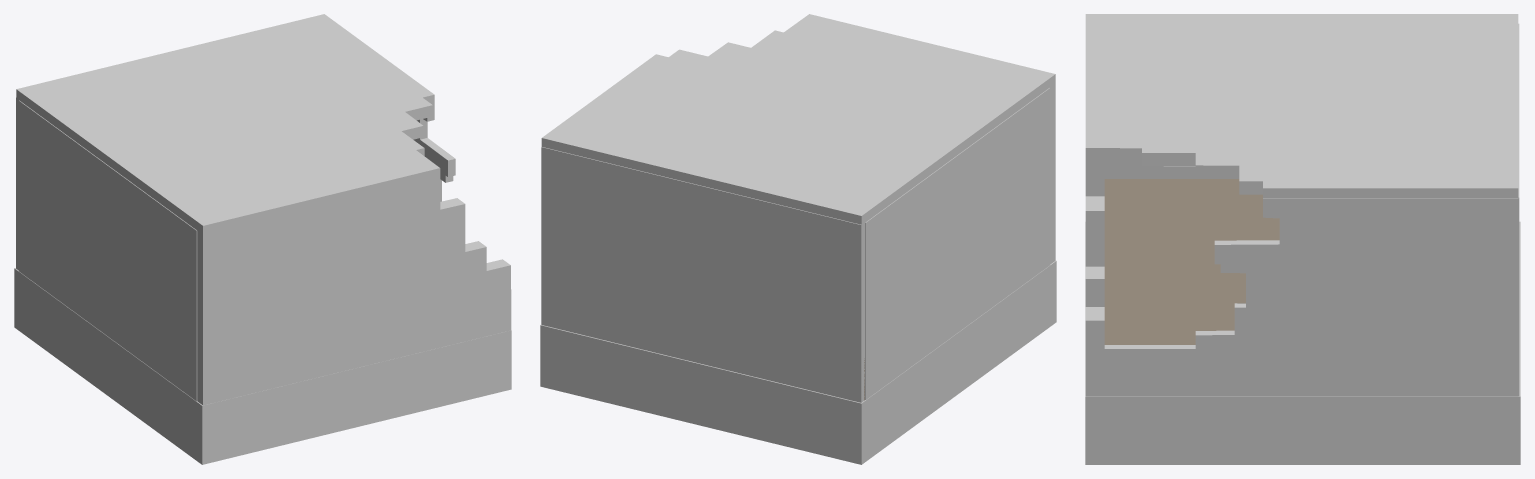
The model's file is stage5.fbx.
The picture shows the model from 3 angles, left to right: view 1: azimuth 30°, elevation 25°; view 2: azimuth 150°, elevation 25°; view 3: azimuth 270°, elevation 25°; orthographic projection. The views are drawn at different scales.
Visible parts, largest first — view 1: pCube4, pCube3, pasted__pCube2 (×2), pCube5, pCube2; view 2: pCube4, pCube2, pasted__pCube2, pCube5, pCube3; view 3: pCube4, pasted__pCube2 (×2), pCube5, pCube1, pCube3, pCube2.
Boxes of the visible parts, x1=… form: pCube4: x1=16, y1=14, x2=440, y2=237; pCube3: x1=197, y1=179, x2=510, y2=405; pasted__pCube2 (×2): x1=19, y1=100, x2=511, y2=401; pCube5: x1=14, y1=268, x2=511, y2=464; pCube2: x1=16, y1=97, x2=18, y2=270; pCube4: x1=541, y1=14, x2=1055, y2=225; pCube2: x1=541, y1=147, x2=864, y2=402; pasted__pCube2: x1=865, y1=88, x2=1050, y2=399; pCube5: x1=540, y1=260, x2=1056, y2=464; pCube3: x1=1050, y1=84, x2=1055, y2=263; pCube4: x1=1085, y1=14, x2=1518, y2=198; pasted__pCube2 (×2): x1=1086, y1=161, x2=1518, y2=396; pCube5: x1=1085, y1=221, x2=1520, y2=464; pCube1: x1=1104, y1=179, x2=1279, y2=344; pCube3: x1=1085, y1=159, x2=1104, y2=395; pCube2: x1=1518, y1=23, x2=1519, y2=395.
Bounding box in the file's own units: 1.01 × 0.7412 × 1.06.
